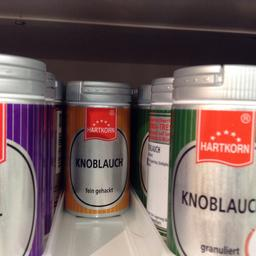spices: (164, 62, 254, 255), (63, 79, 130, 217)
